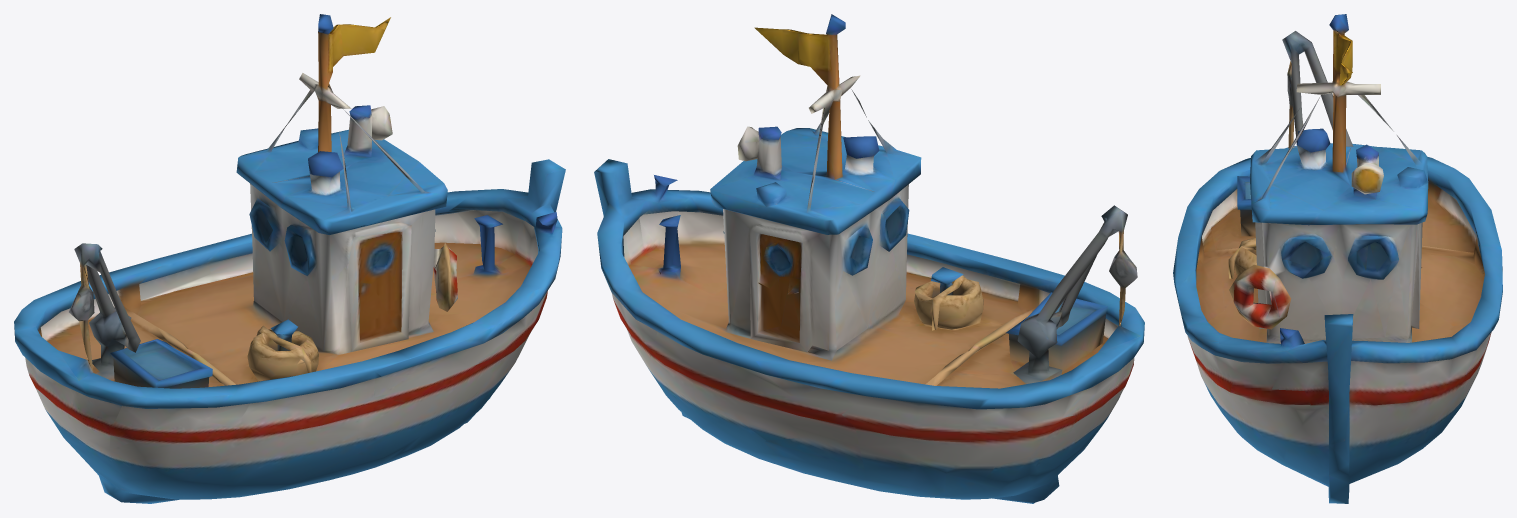
File: boat.glb
3 renders of one model, left to right at view 1: azimuth 30°, elevation 25°; view 2: azimuth 150°, elevation 25°; view 3: azimuth 270°, elevation 25°, orthographic. The views are drawn at different scales.
Visible parts, largest first — view 1: tripo_node_e936c0d5-b66d-450e-a096-8f54045b6d11; view 2: tripo_node_e936c0d5-b66d-450e-a096-8f54045b6d11; view 3: tripo_node_e936c0d5-b66d-450e-a096-8f54045b6d11.
Part boxes in pixels (x1=…): tripo_node_e936c0d5-b66d-450e-a096-8f54045b6d11: x1=14, y1=14, x2=565, y2=503; tripo_node_e936c0d5-b66d-450e-a096-8f54045b6d11: x1=594, y1=14, x2=1144, y2=503; tripo_node_e936c0d5-b66d-450e-a096-8f54045b6d11: x1=1173, y1=14, x2=1502, y2=503.
Bounding box in the file's own units: 1 × 0.8248 × 0.5672.
Materials: 1 (1 with a texture image).
